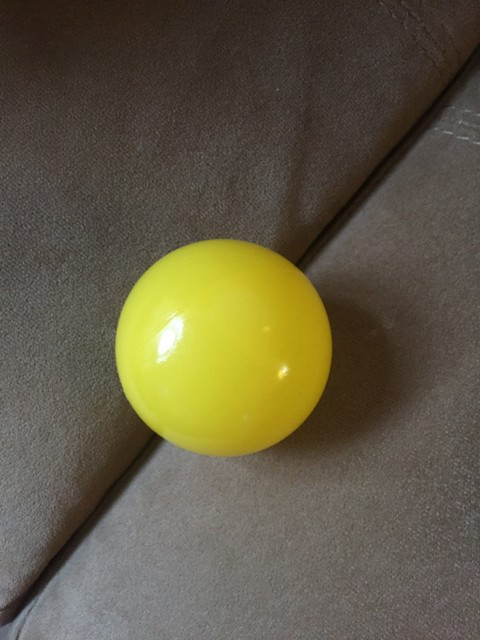ball: (114, 236, 335, 462)
